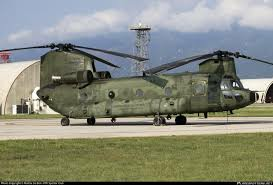chinook: (20, 40, 265, 128)
